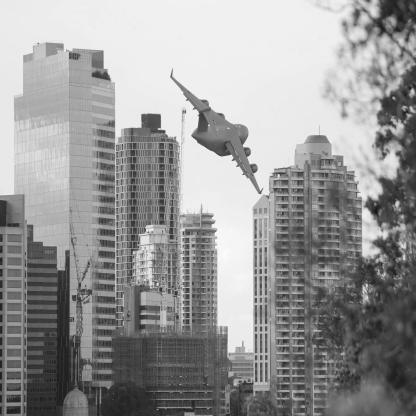C17: (171, 69, 265, 195)
